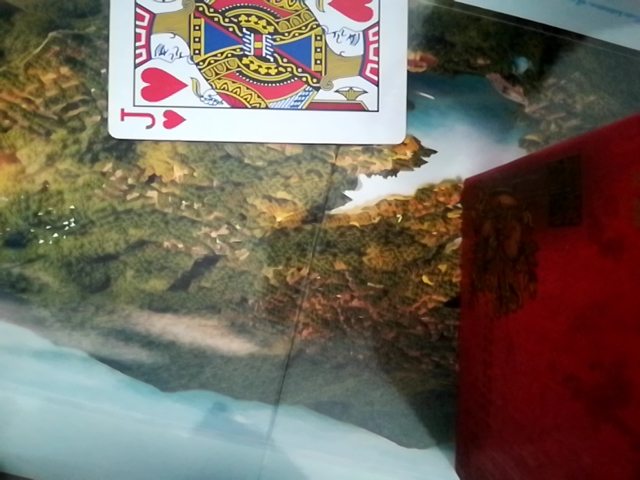hx j: (100, 0, 409, 147)
